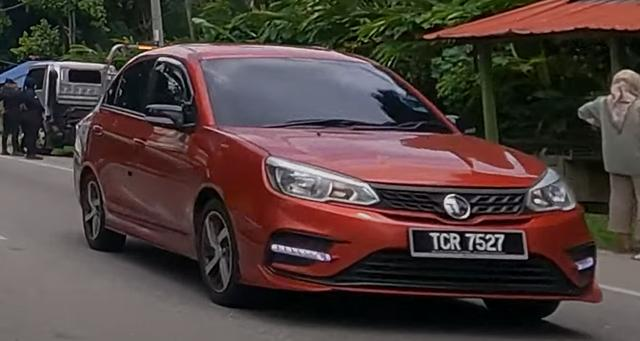License_Plate: (408, 226, 530, 261)
car: (73, 42, 606, 322)
